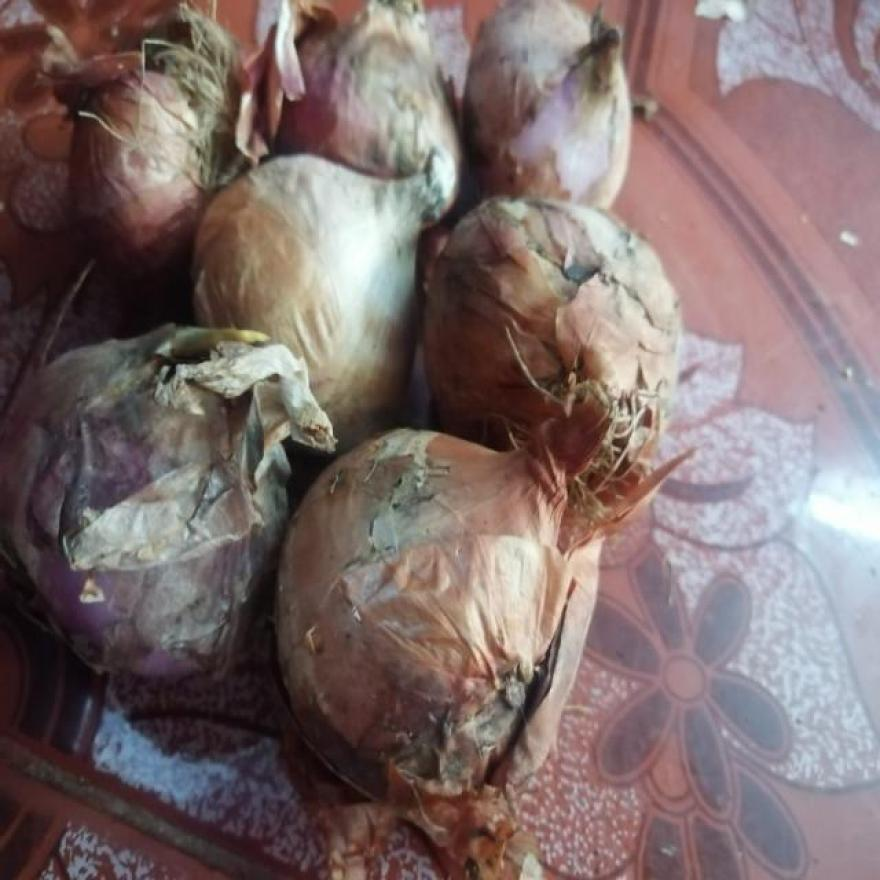Rotten: (412, 661, 559, 788), (116, 400, 204, 565), (523, 230, 662, 331)
